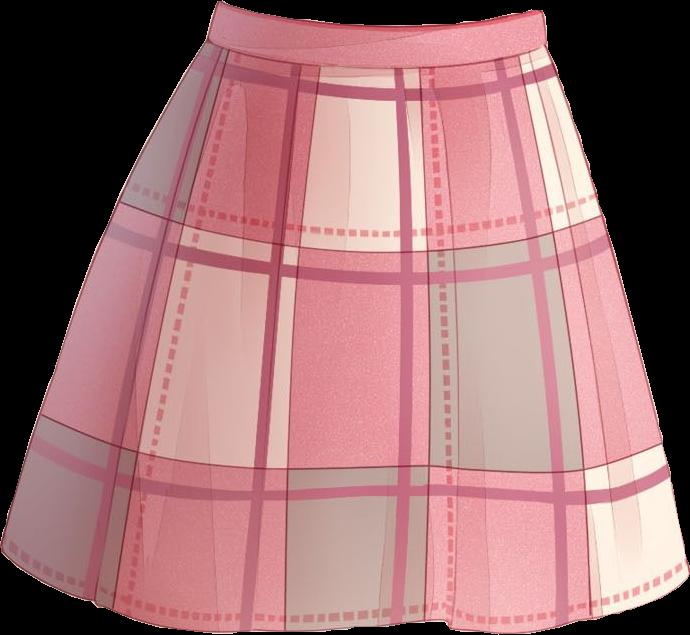Hemline: (0, 546, 689, 634)
Waistline: (206, 34, 547, 72), (219, 0, 538, 30)
